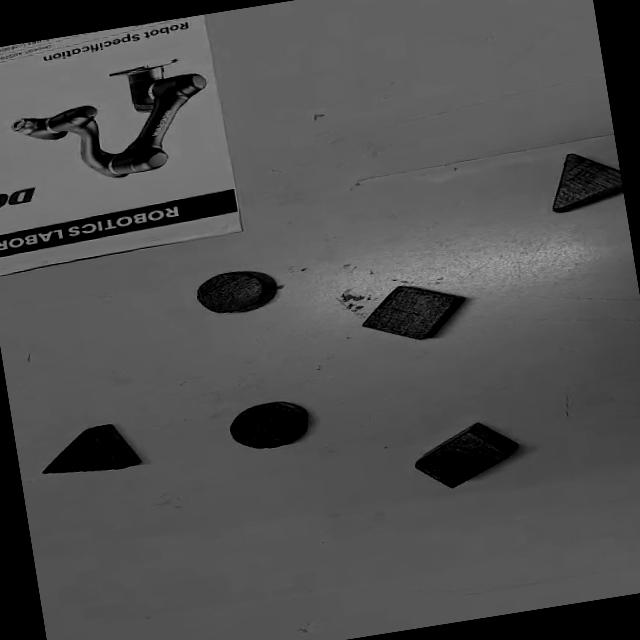bcircle: (225, 396, 312, 456)
bcube: (353, 276, 471, 350)
btriangle: (39, 422, 142, 482)
rcircle: (191, 265, 279, 320)
rcube: (408, 416, 520, 494)
rtriangle: (544, 146, 624, 215)
